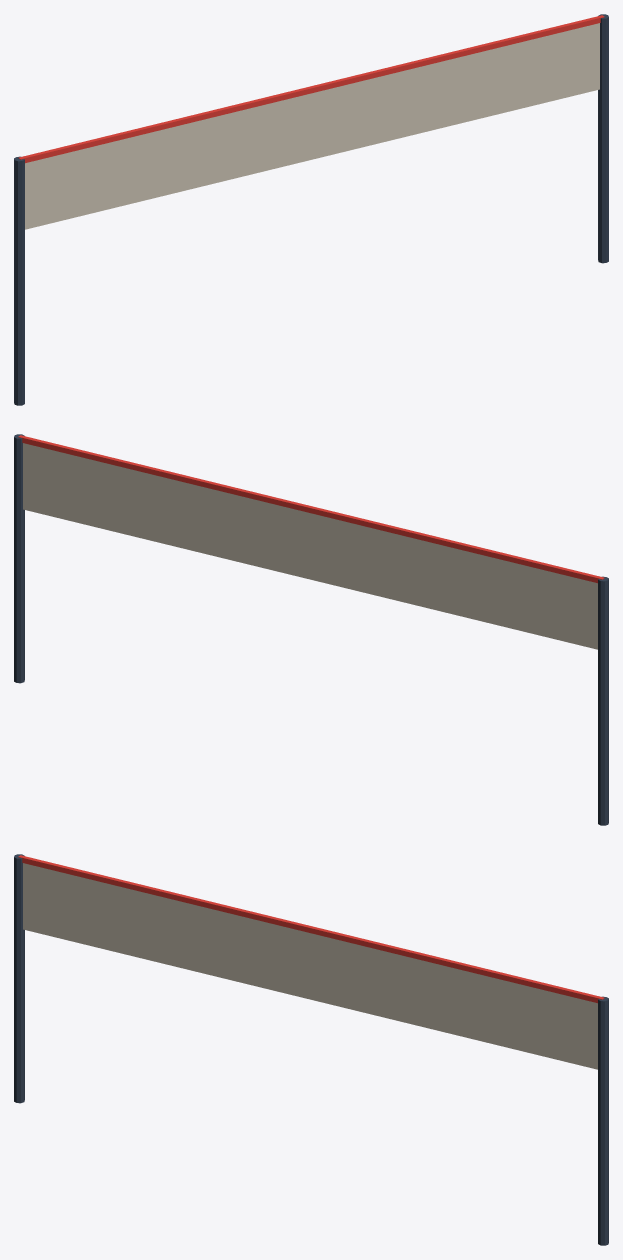
File: sport_net.glb
3 renders of one model, top to bottom at view 1: azimuth 30°, elevation 25°; view 2: azimuth 150°, elevation 25°; view 3: azimuth 330°, elevation 25°, orthographic.
Visible parts, largest first — view 1: Cube, Cylinder, Cube.001; view 2: Cube, Cylinder, Cube.001; view 3: Cube, Cylinder, Cube.001.
Boxes of the visible parts, x1=… form: Cube: x1=25, y1=23, x2=599, y2=229; Cylinder: x1=14, y1=14, x2=608, y2=405; Cube.001: x1=18, y1=15, x2=604, y2=163; Cube: x1=23, y1=443, x2=597, y2=649; Cylinder: x1=14, y1=434, x2=608, y2=825; Cube.001: x1=18, y1=435, x2=604, y2=583; Cube: x1=23, y1=863, x2=597, y2=1069; Cylinder: x1=14, y1=854, x2=608, y2=1245; Cube.001: x1=18, y1=855, x2=604, y2=1003.
Bounding box in the file's own units: 6.1 × 2.41 × 0.0998.
